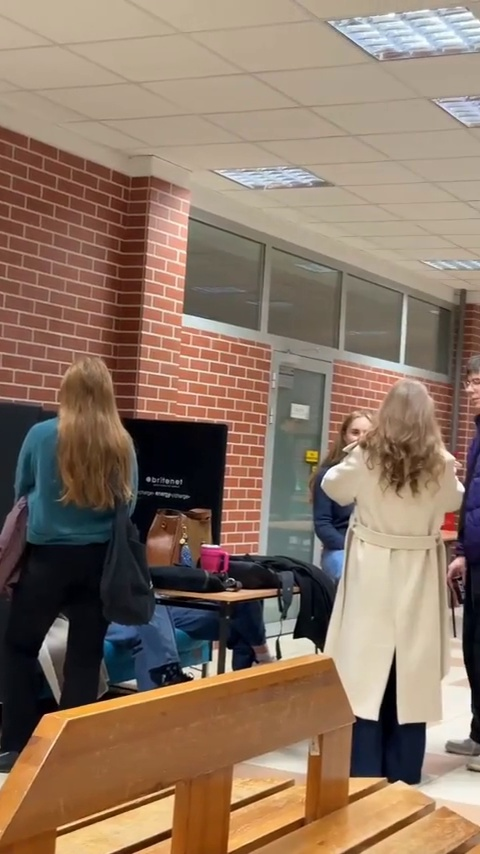no vest: (13, 355, 158, 715), (324, 371, 443, 731), (450, 344, 480, 734)
